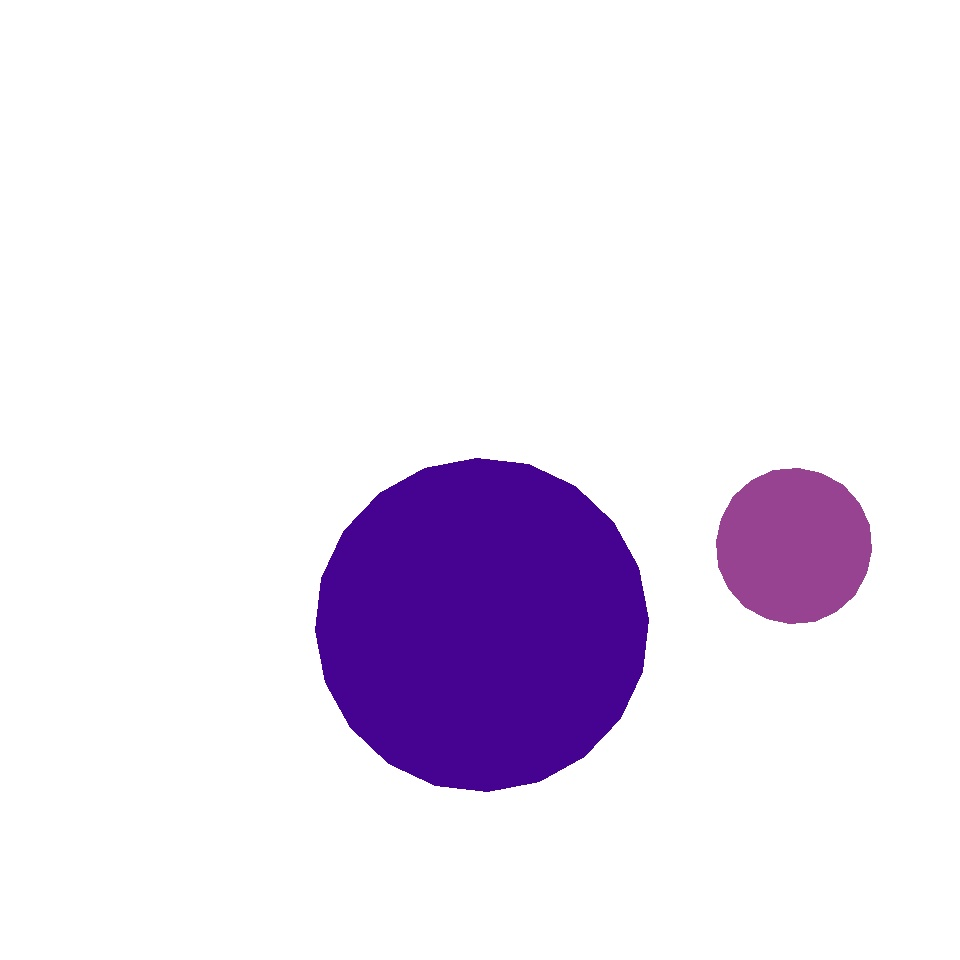square: (660, 38, 896, 272)
triangle: (316, 458, 648, 792), (532, 464, 780, 710), (716, 468, 871, 624)
